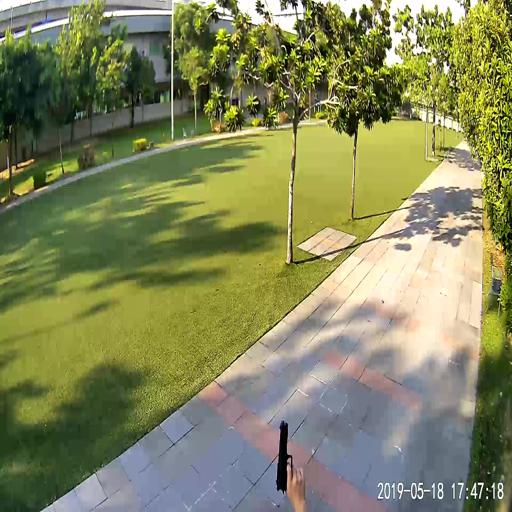pistol: (274, 417, 293, 496)
